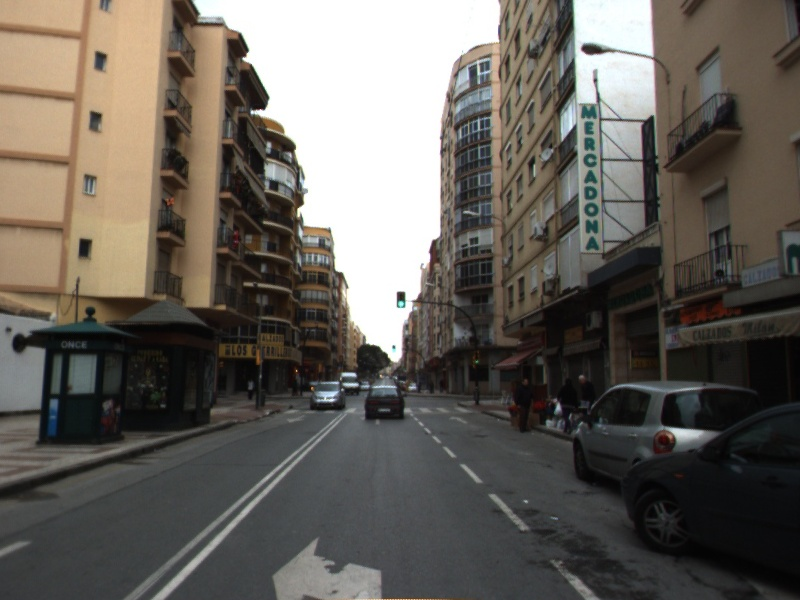LEFT: (270, 535, 384, 600)
STRAIGHT: (447, 414, 469, 425)
